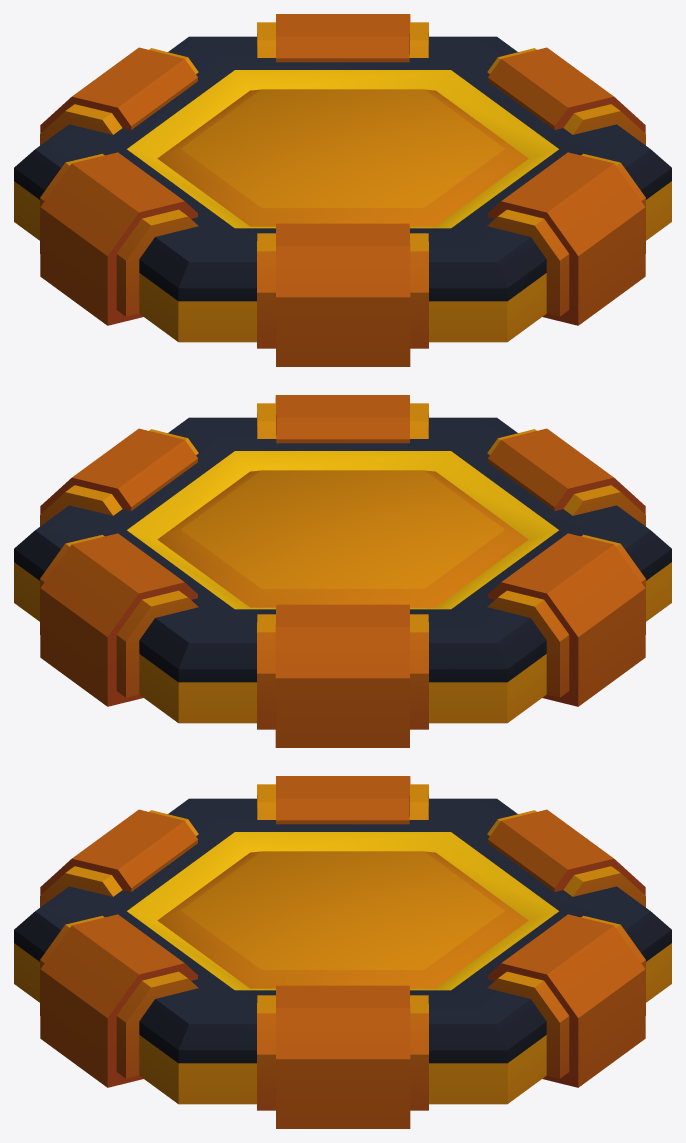
Rendered from Hexagon 11.FBX.
3 renders of one model, top to bottom at view 1: azimuth 30°, elevation 25°; view 2: azimuth 150°, elevation 25°; view 3: azimuth 270°, elevation 25°, orthographic.
Parts seen in each view (by area): view 1: Hexagon 11; view 2: Hexagon 11; view 3: Hexagon 11.
Part boxes in pixels (x1=…): Hexagon 11: x1=14, y1=14, x2=671, y2=366; Hexagon 11: x1=14, y1=395, x2=671, y2=747; Hexagon 11: x1=14, y1=776, x2=671, y2=1128.
Bounding box in the file's own units: 305 × 57.3 × 323.
Materials: 1 (1 with a texture image).
